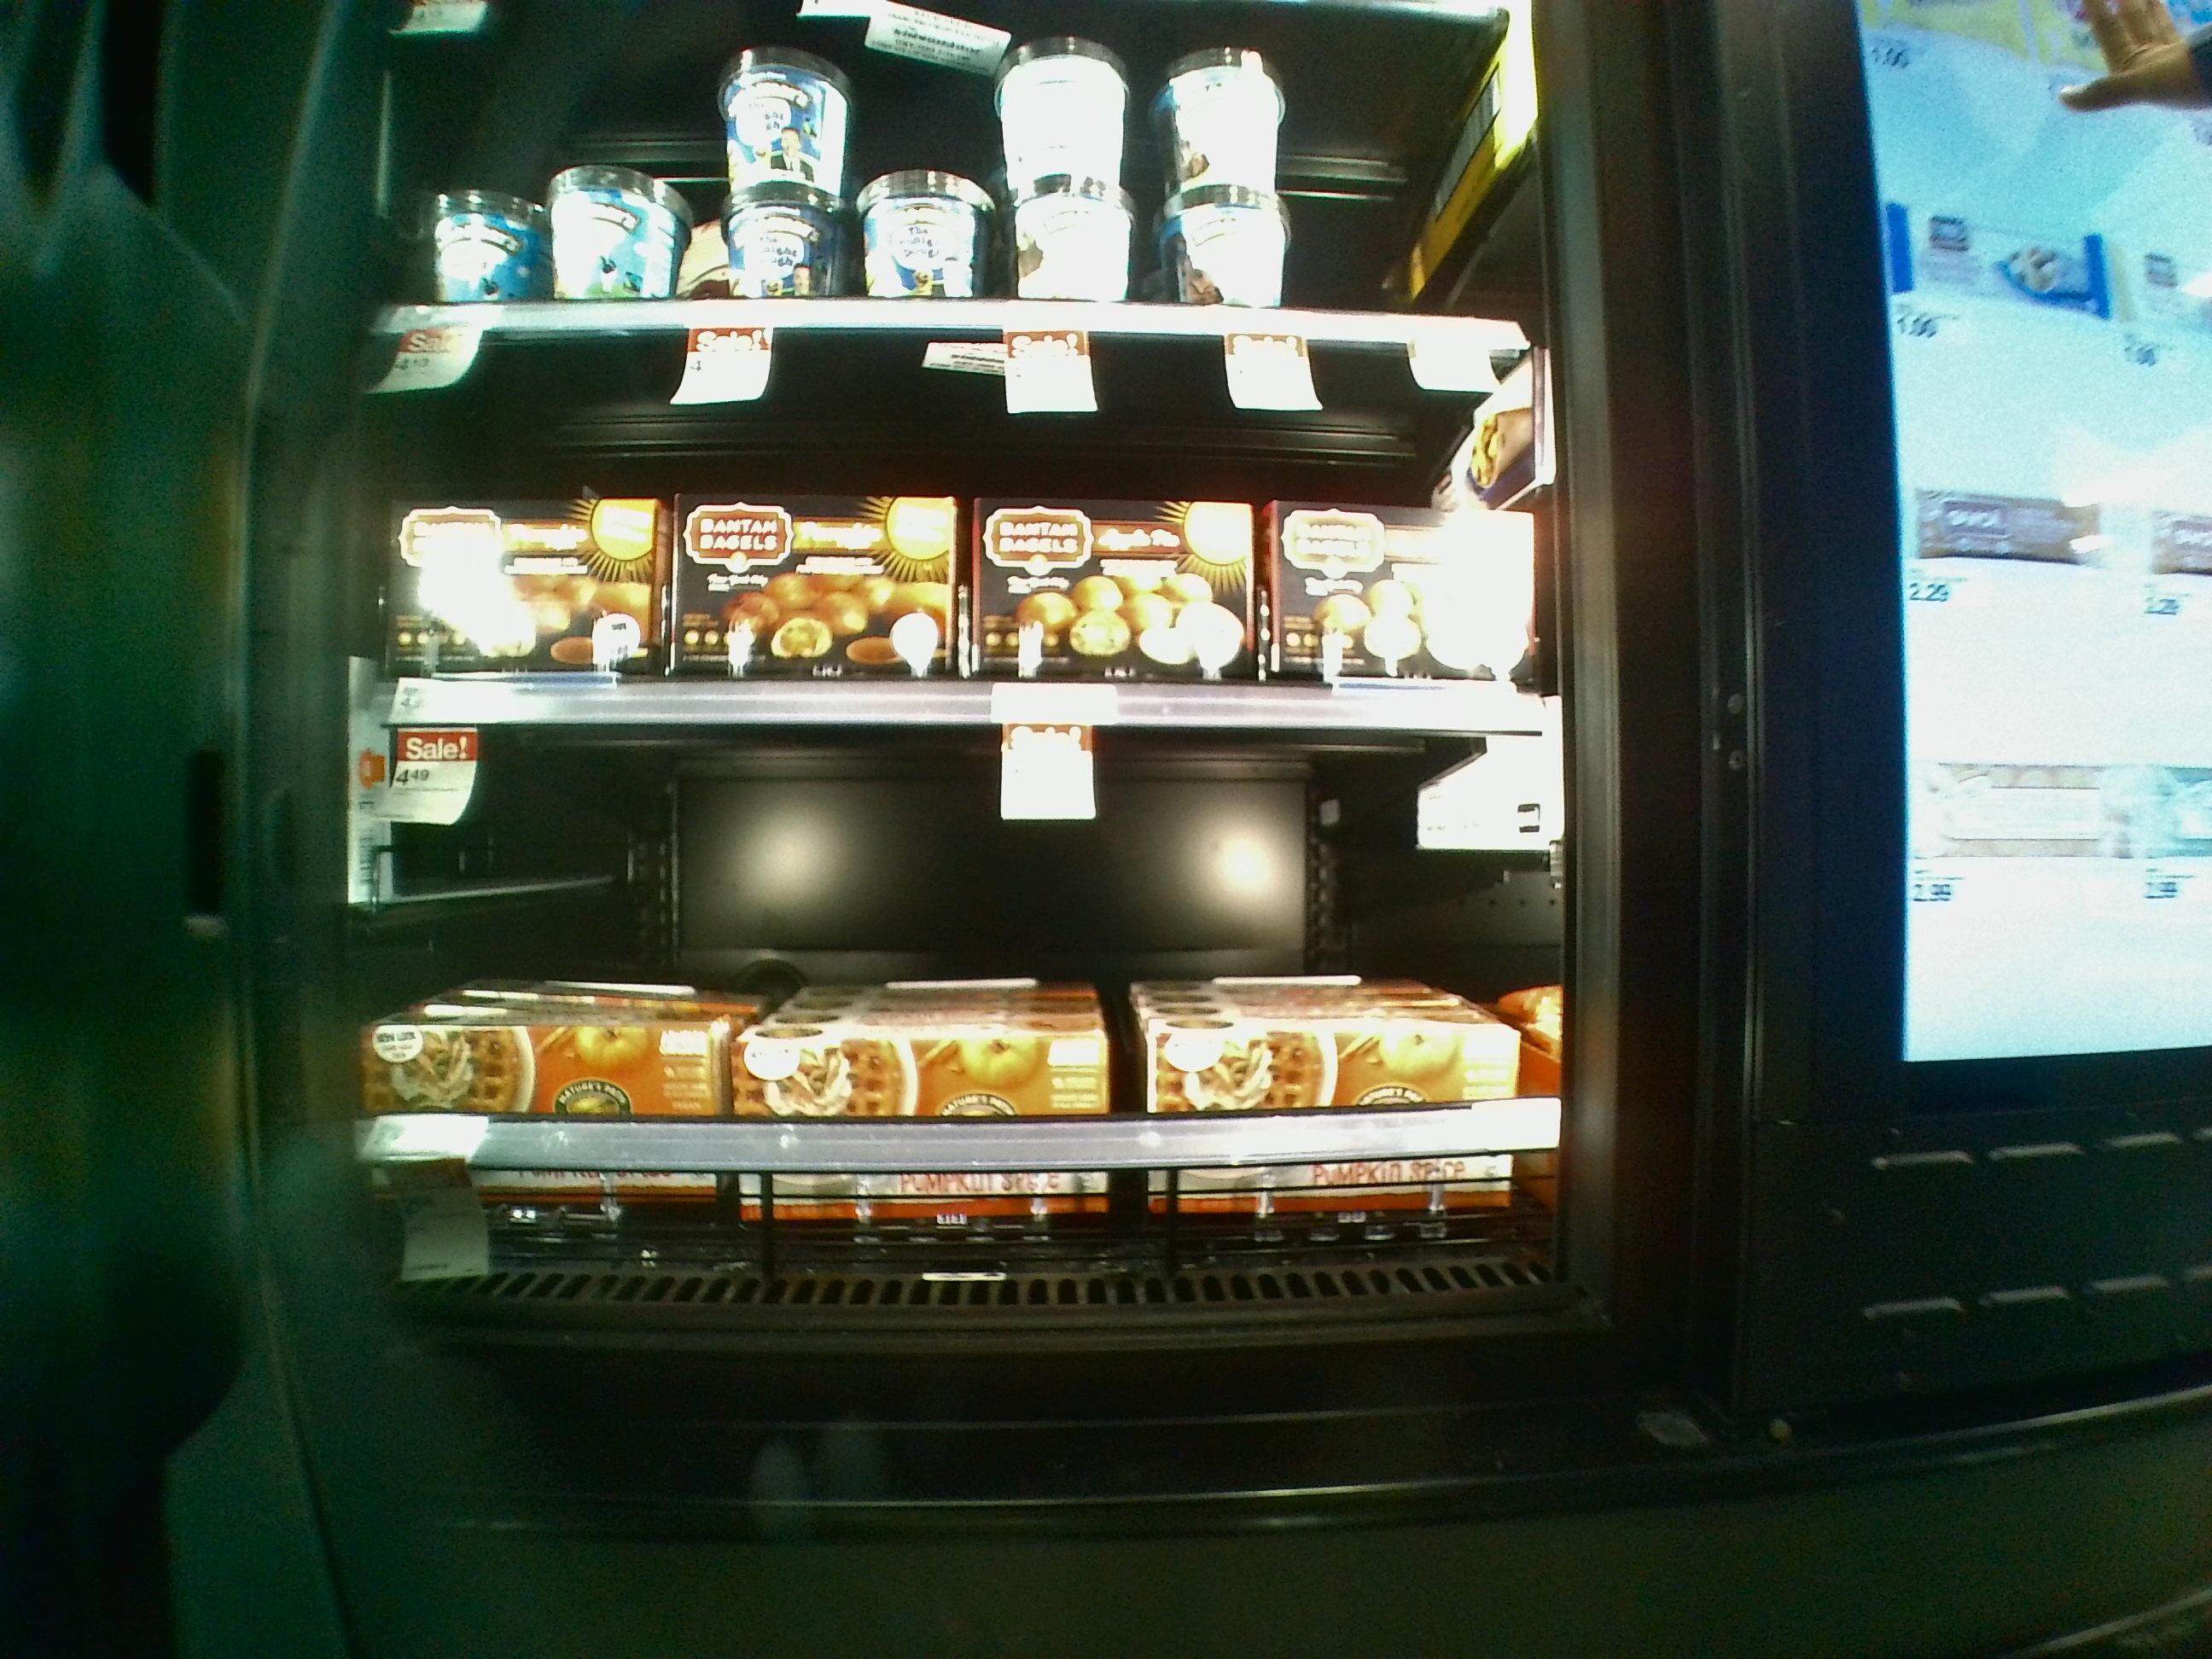shelf: (319, 706, 1575, 1319), (338, 319, 1561, 742)
